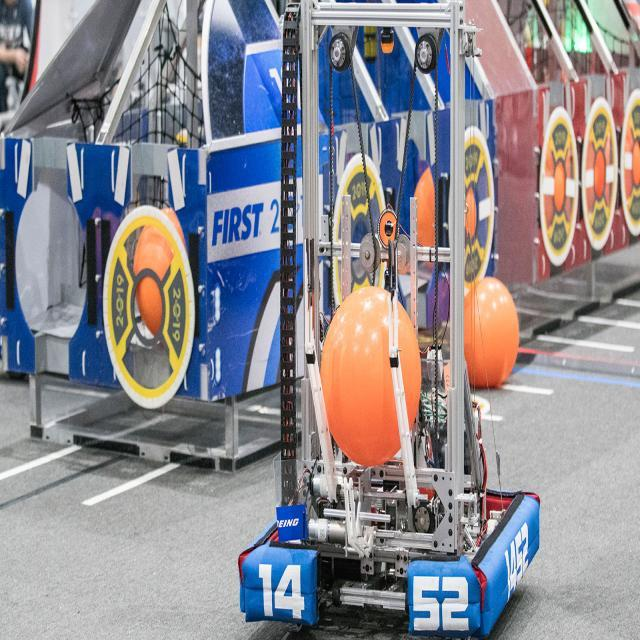robot: (237, 2, 541, 640)
